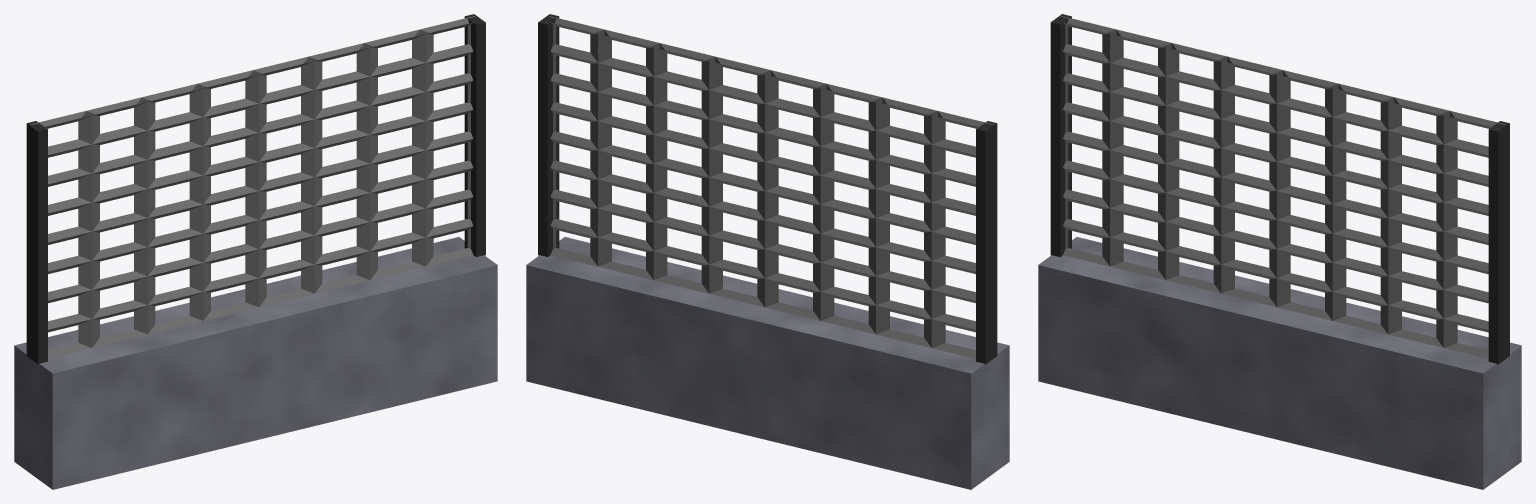
Rendered from raceTrackBarrier.glb.
3 renders of one model, left to right at view 1: azimuth 30°, elevation 25°; view 2: azimuth 150°, elevation 25°; view 3: azimuth 330°, elevation 25°, orthographic.
Visible parts, largest first — view 1: Cube, Plane, Cube.002, Cube.001; view 2: Cube, Plane, Cube.002, Cube.001; view 3: Cube, Plane, Cube.001, Cube.002.
Boxes of the visible parts, bbox=[...] form: Cube: bbox=[14, 237, 497, 489]; Plane: bbox=[30, 16, 481, 358]; Cube.002: bbox=[26, 121, 47, 364]; Cube.001: bbox=[464, 14, 485, 256]; Cube: bbox=[526, 237, 1009, 489]; Plane: bbox=[542, 16, 993, 358]; Cube.002: bbox=[976, 121, 997, 364]; Cube.001: bbox=[538, 14, 559, 256]; Cube: bbox=[1038, 237, 1521, 489]; Plane: bbox=[1054, 16, 1505, 358]; Cube.001: bbox=[1488, 121, 1509, 364]; Cube.002: bbox=[1050, 14, 1071, 256].
Bounding box in the file's own units: 4.02 × 3 × 0.6.
Materials: 3 (1 with a texture image).
